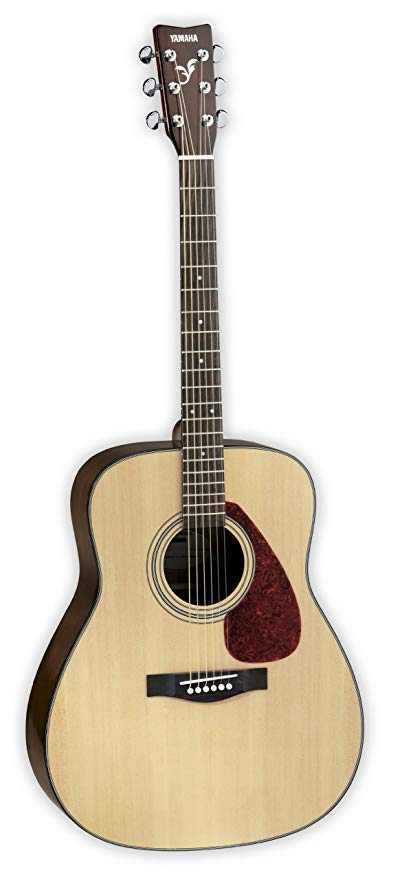ElectricGuitar: (28, 20, 372, 852)
